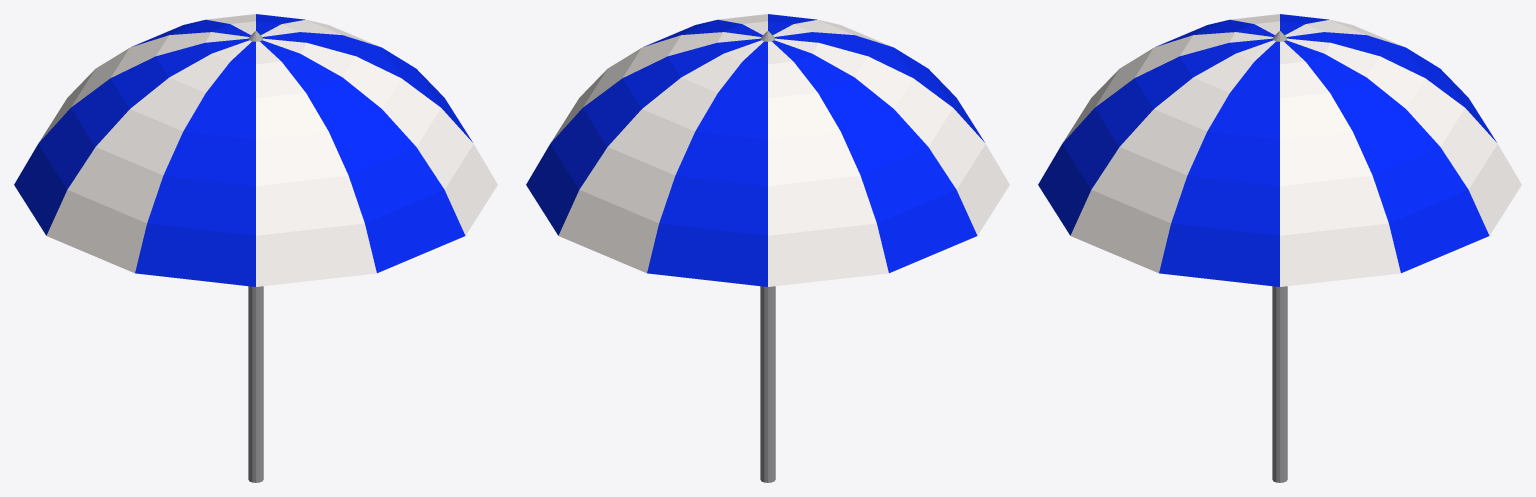
The model's file is umbrella_blue.fbx.
3 renders of one model, left to right at view 1: azimuth 30°, elevation 25°; view 2: azimuth 150°, elevation 25°; view 3: azimuth 270°, elevation 25°, orthographic.
Visible parts, largest first — view 1: Sphere; view 2: Sphere; view 3: Sphere.
Part boxes in pixels (box(x1,y1,x2,y2)): Sphere: box(14, 14, 497, 482); Sphere: box(526, 14, 1009, 482); Sphere: box(1038, 14, 1521, 482).
Size of the model in its own units: 185 by 189 by 185.
